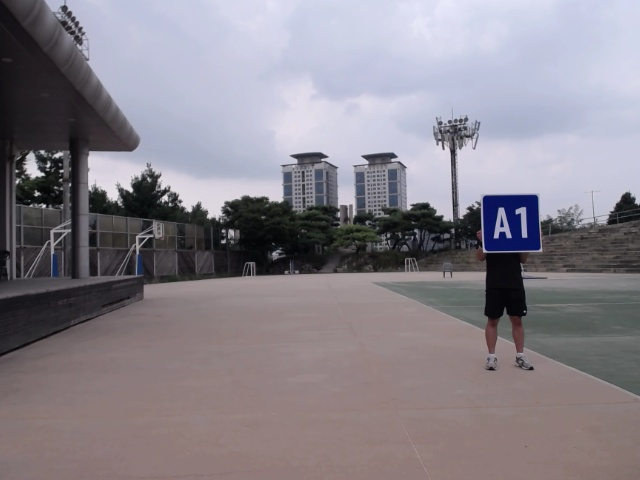delivery_a1: (482, 194, 541, 251)
